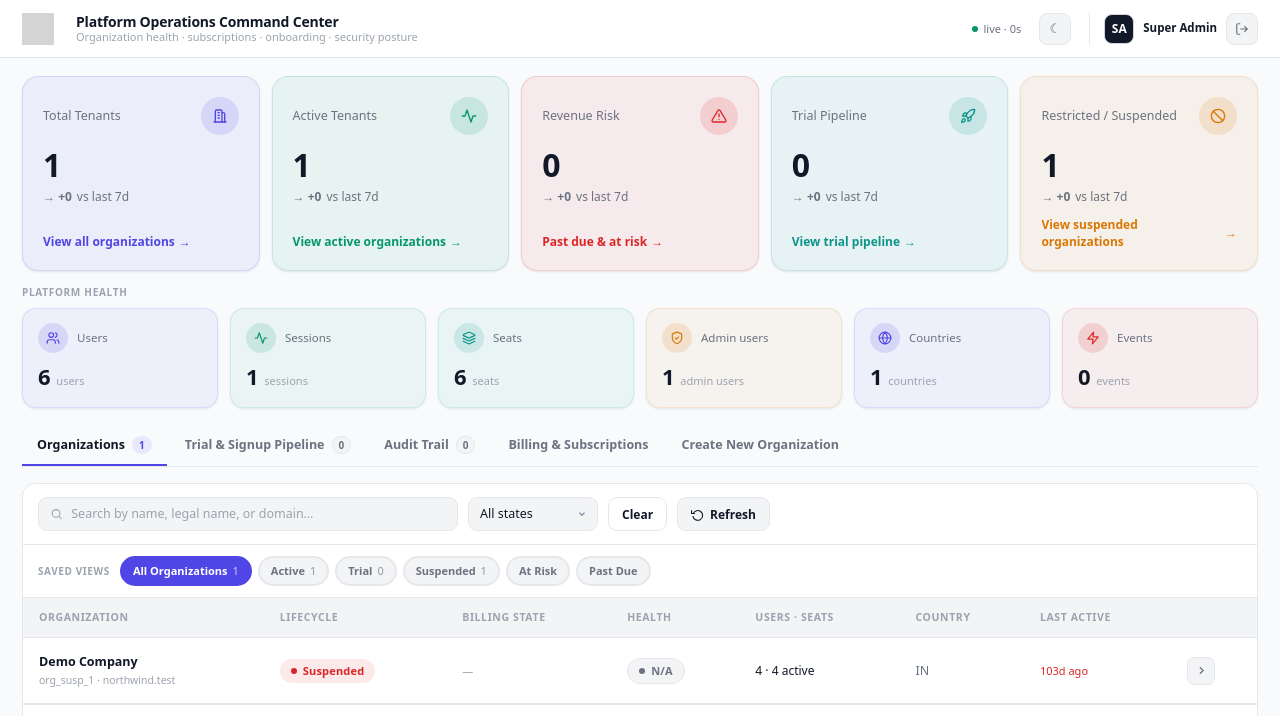
Test: delete confirmation › keeps the delete button disabled until the name matches exactly
This screenshot has width=1280, height=716.
Click the text "Demo Company": x=88, y=662 39,653 -> 138,670
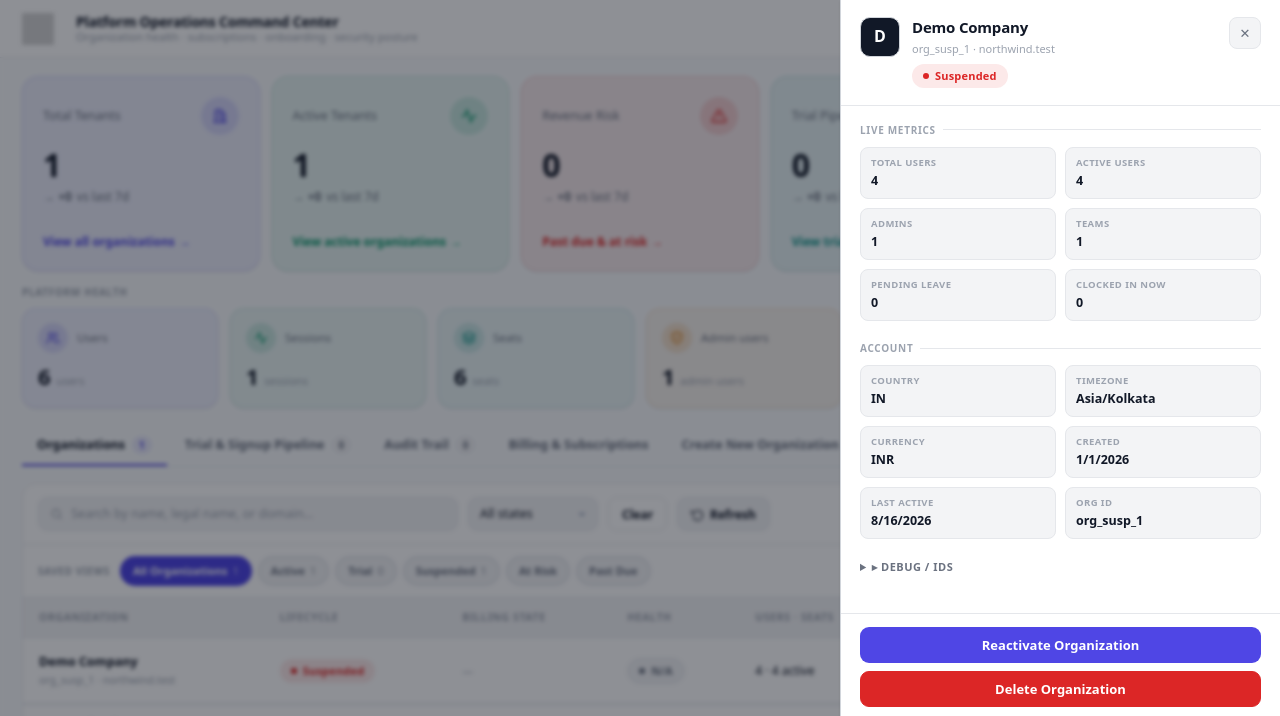
Expected: the button "Reactivate Organization" is shown, 860,627 -> 1261,663
Click the button "Delete Organization": x=1060, y=689 860,671 -> 1261,707
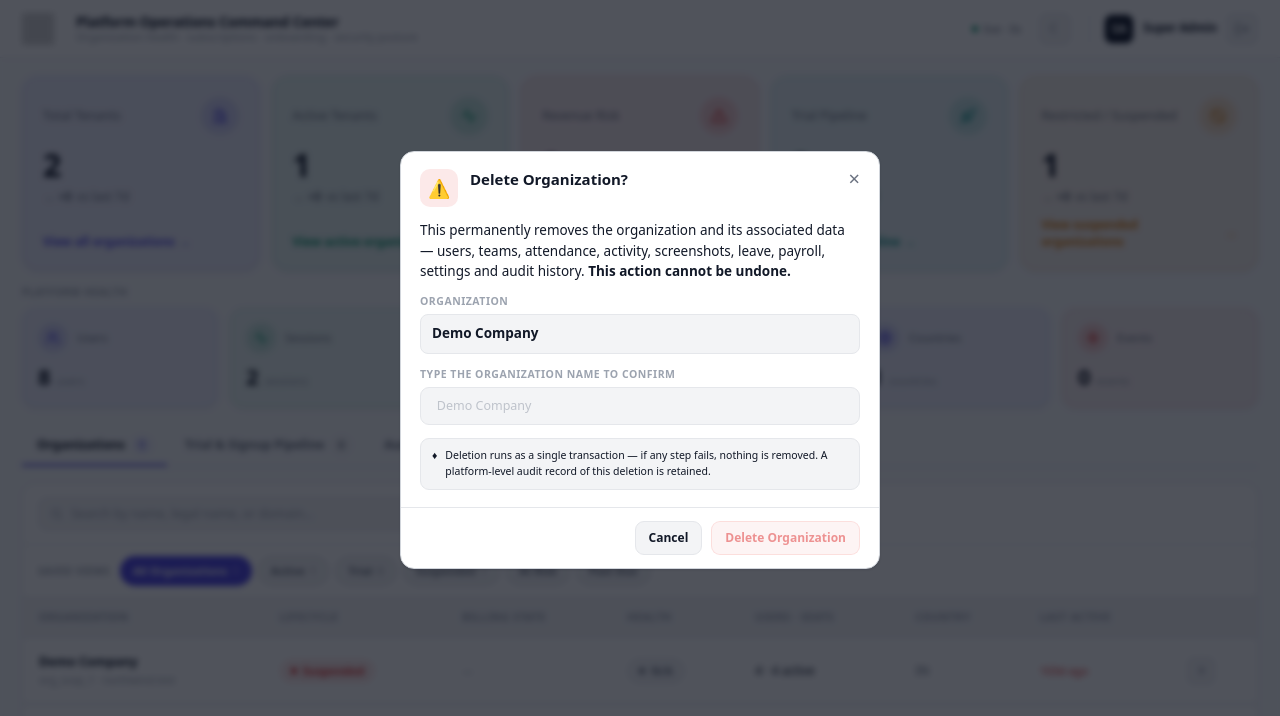
Expected: the heading "Delete Organization?" is shown, 470,169 -> 628,189
Expected: the button "Delete Organization" is disabled, 711,521 -> 860,555
In the field named "Type the organization name to confirm": x=640, y=406 420,387 -> 860,425, type "Demo Compan"
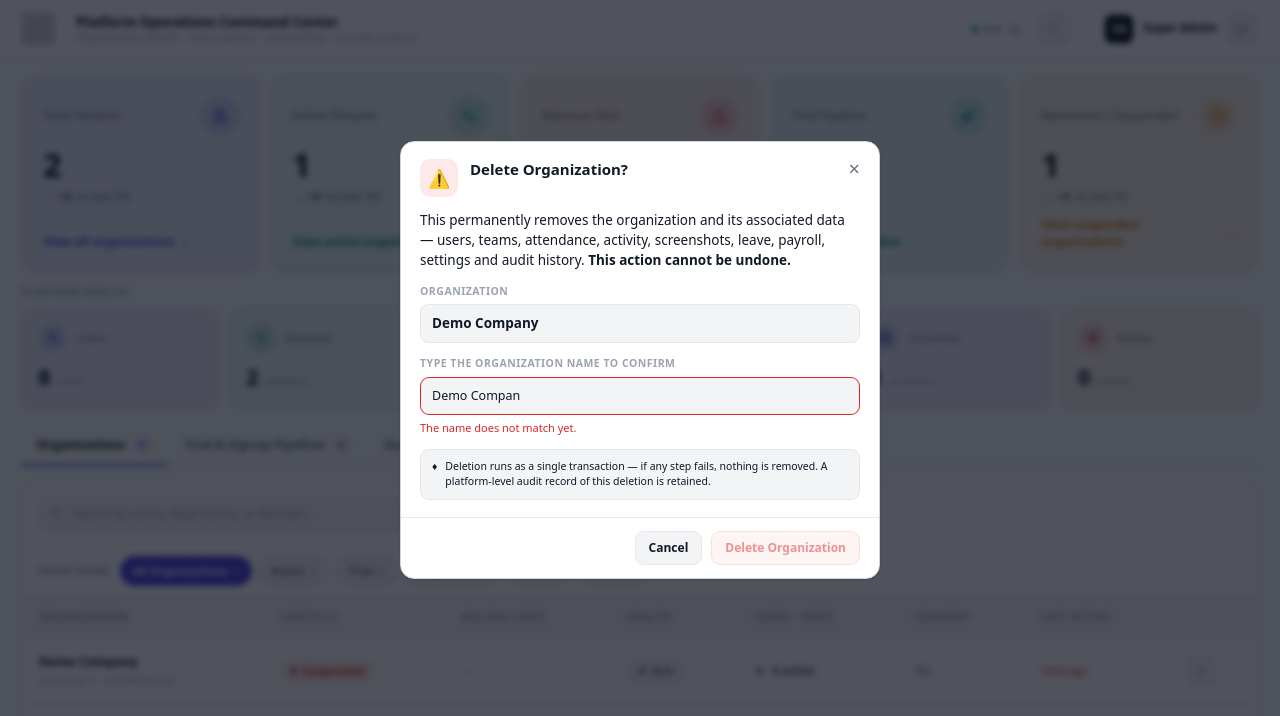
Expected: the button "Delete Organization" is disabled, 711,531 -> 860,565
Expected: the text "The name does not match yet." is shown, 420,420 -> 576,435
Replace the text in the field named "Type the organization name to confirm" with "demo company": x=640, y=396 420,377 -> 860,415
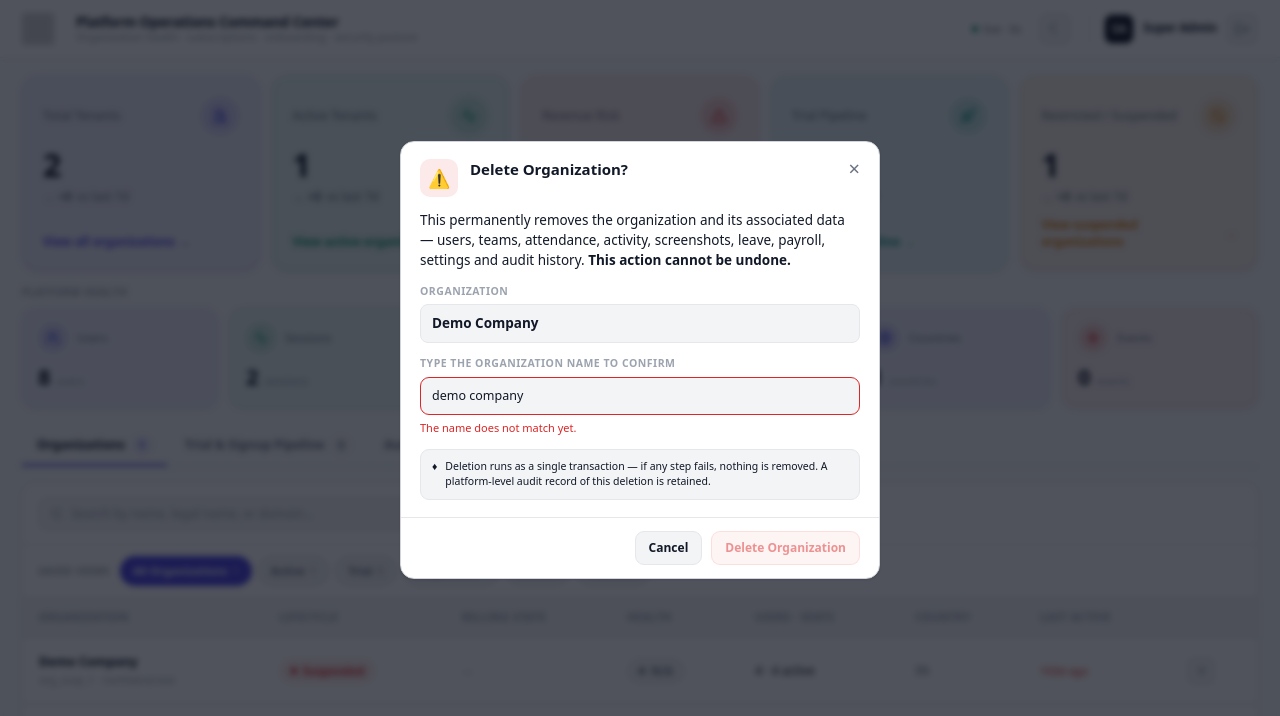
Expected: the button "Delete Organization" is disabled, 711,531 -> 860,565
Replace the text in the field named "Type the organization name to confirm" with "Demo Company": x=640, y=396 420,377 -> 860,415
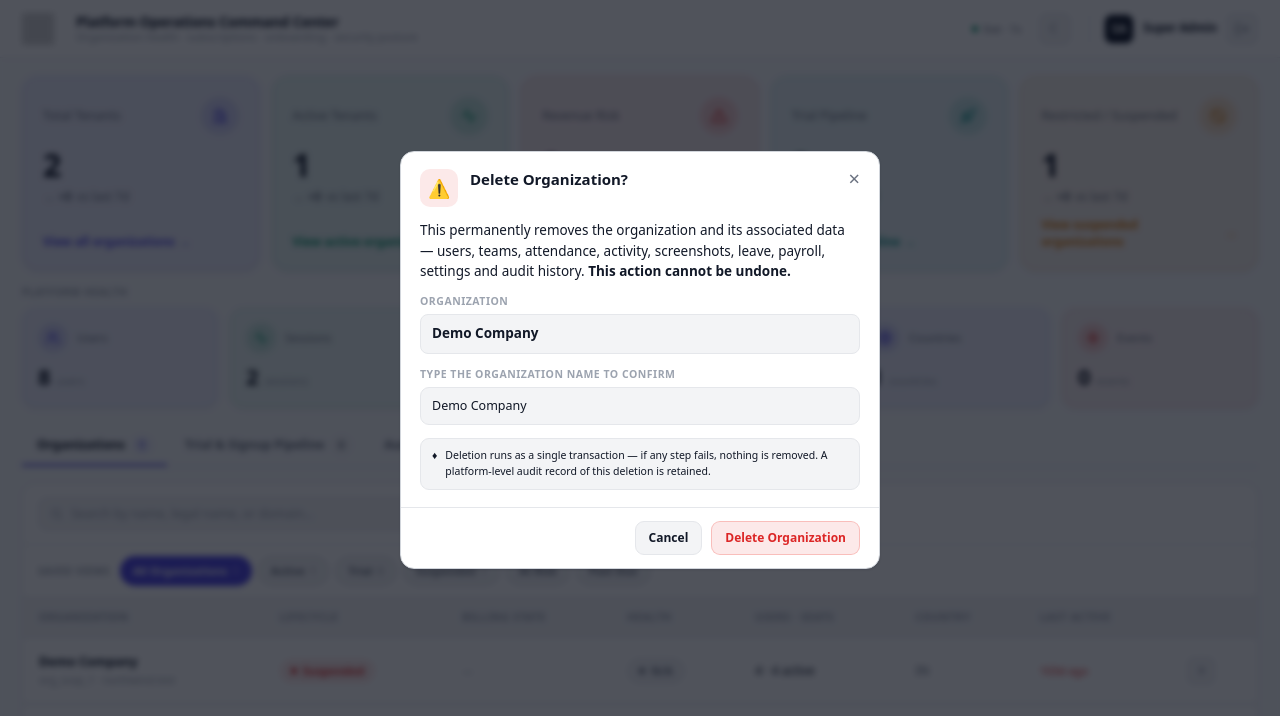
Expected: the button "Delete Organization" is enabled, 711,521 -> 860,555
Expected: the text "The name does not match yet." is gone
